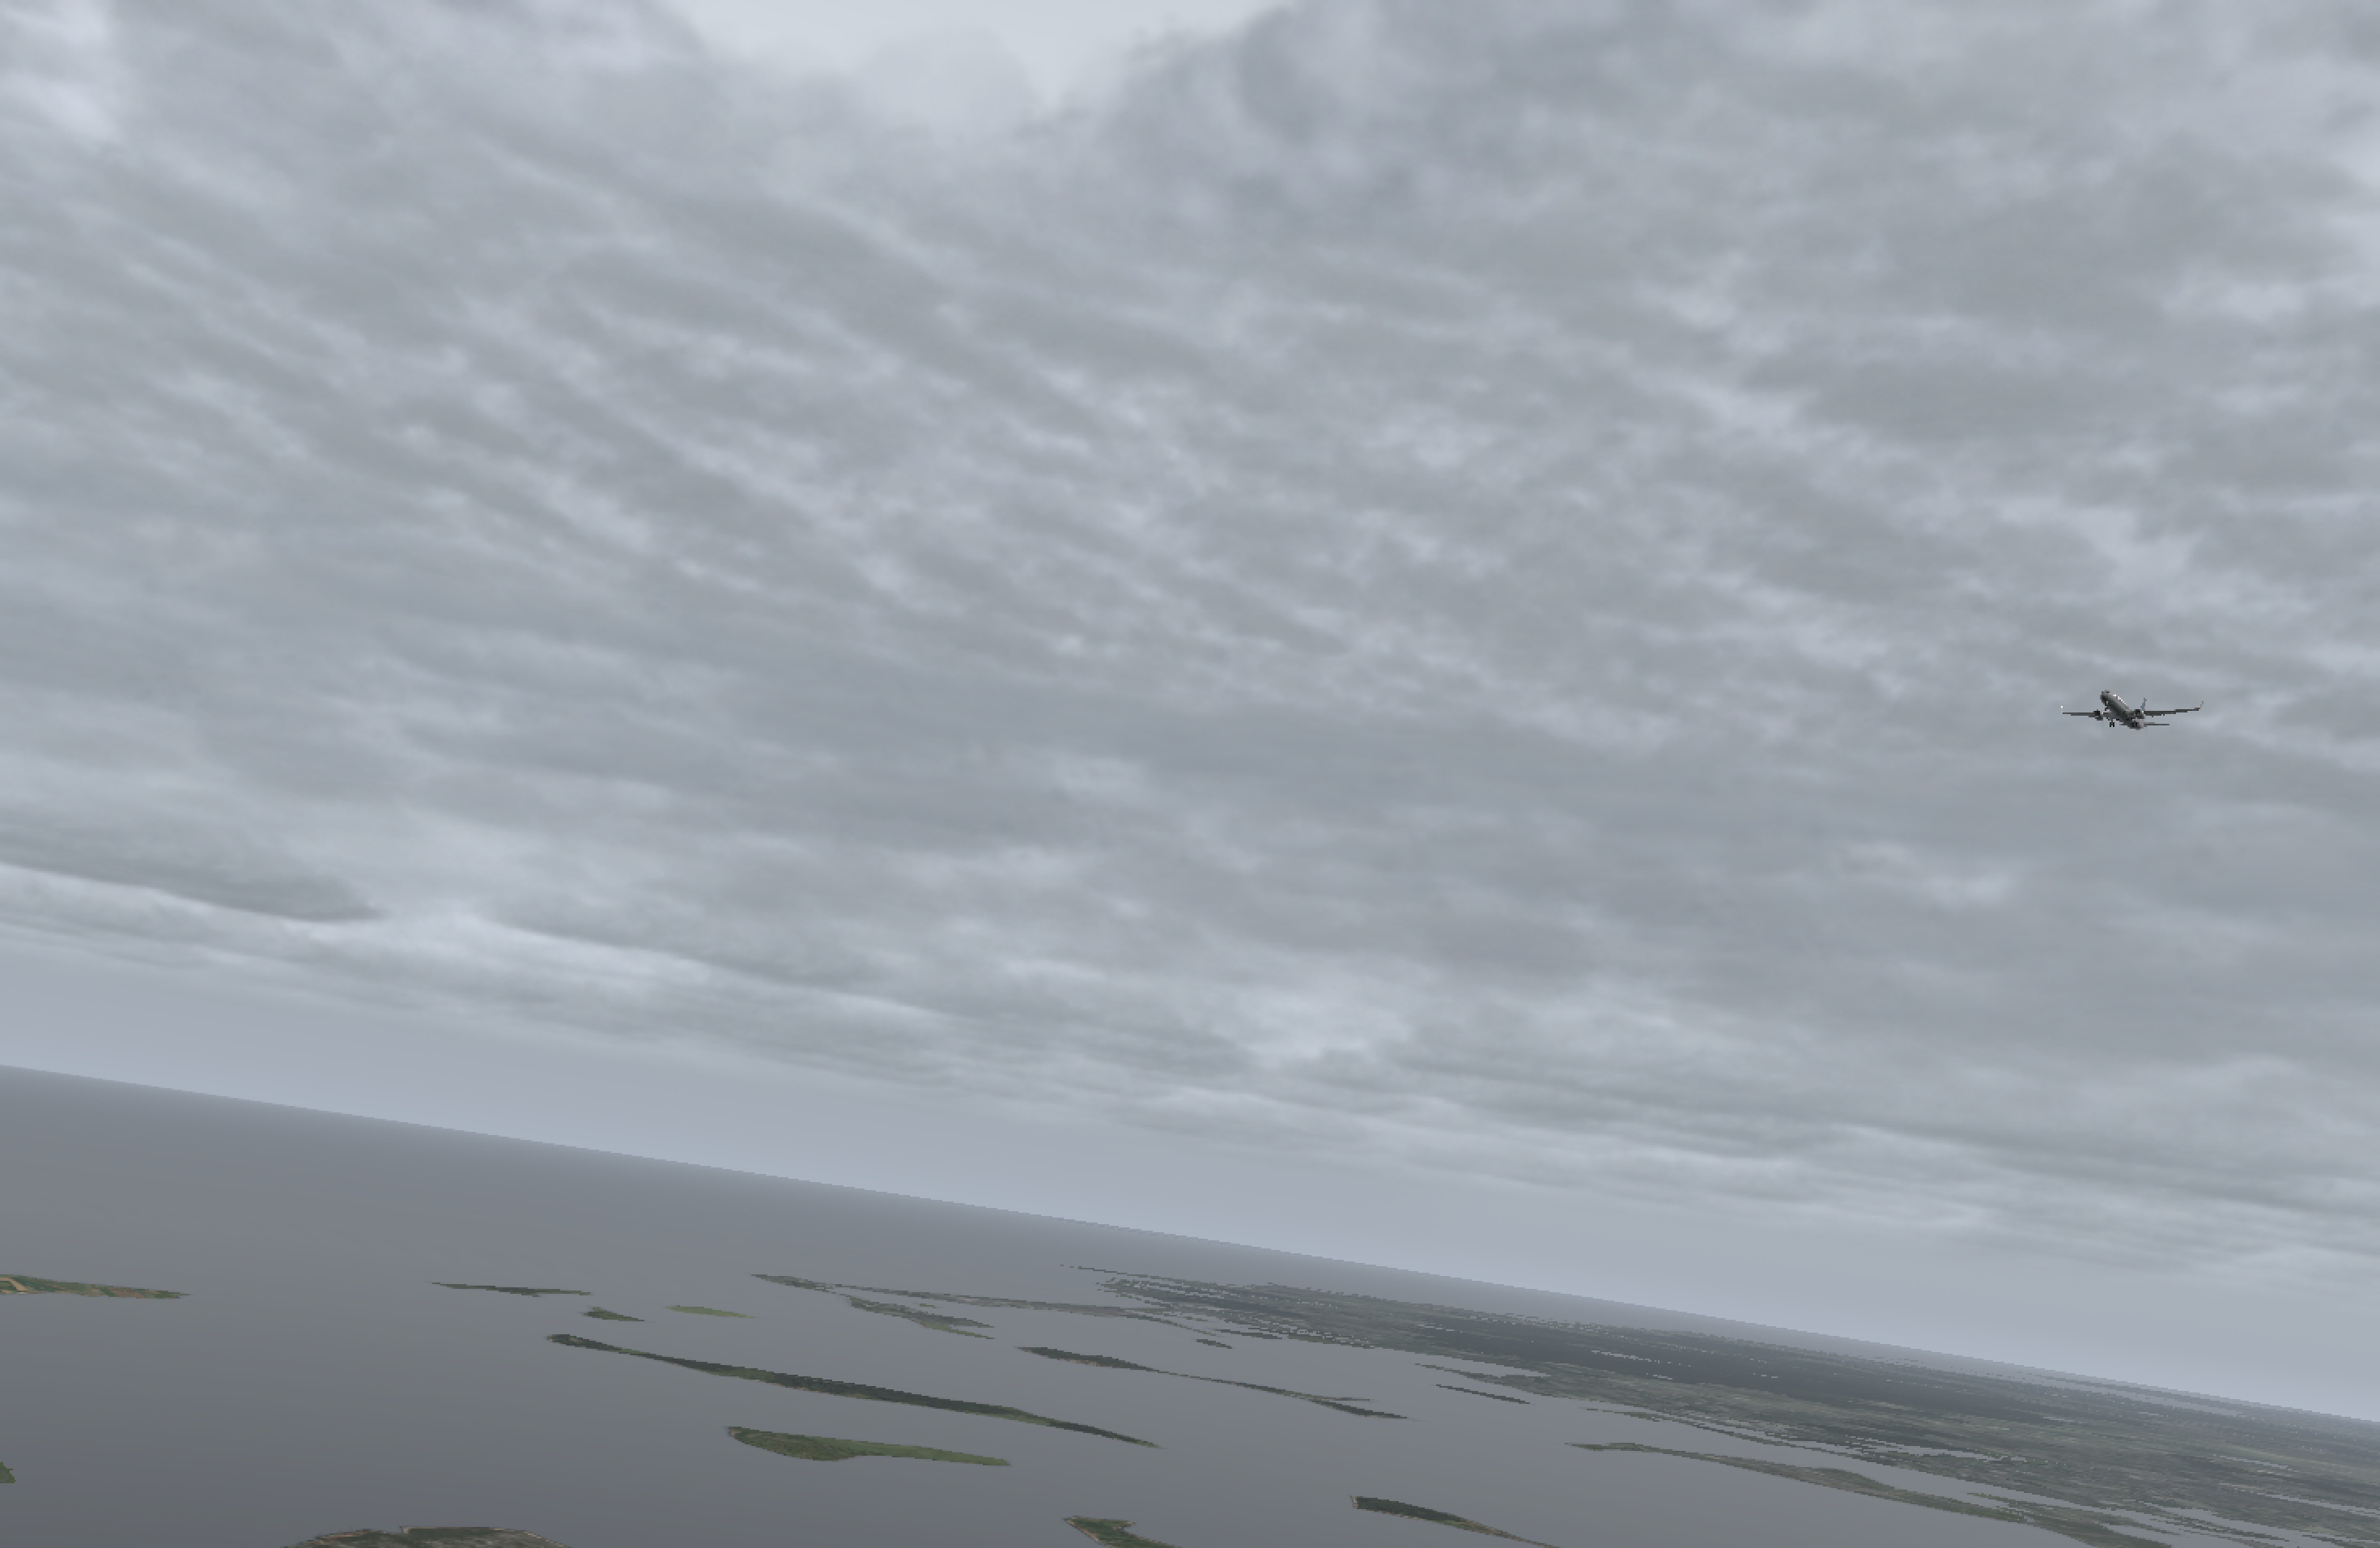aircraft: (2054, 687, 2193, 739)
